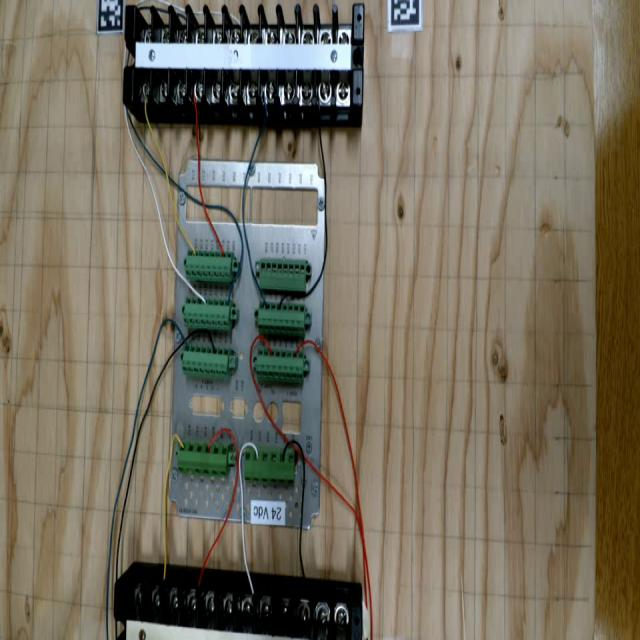Flathead_Block: (113, 583, 363, 640)
Phillips_Block: (123, 2, 364, 104)
Terminal_1: (243, 445, 297, 487), (176, 441, 229, 477)
Terminal_2: (255, 347, 305, 383), (257, 301, 306, 337), (181, 344, 231, 379), (184, 249, 233, 282), (183, 297, 231, 330)
